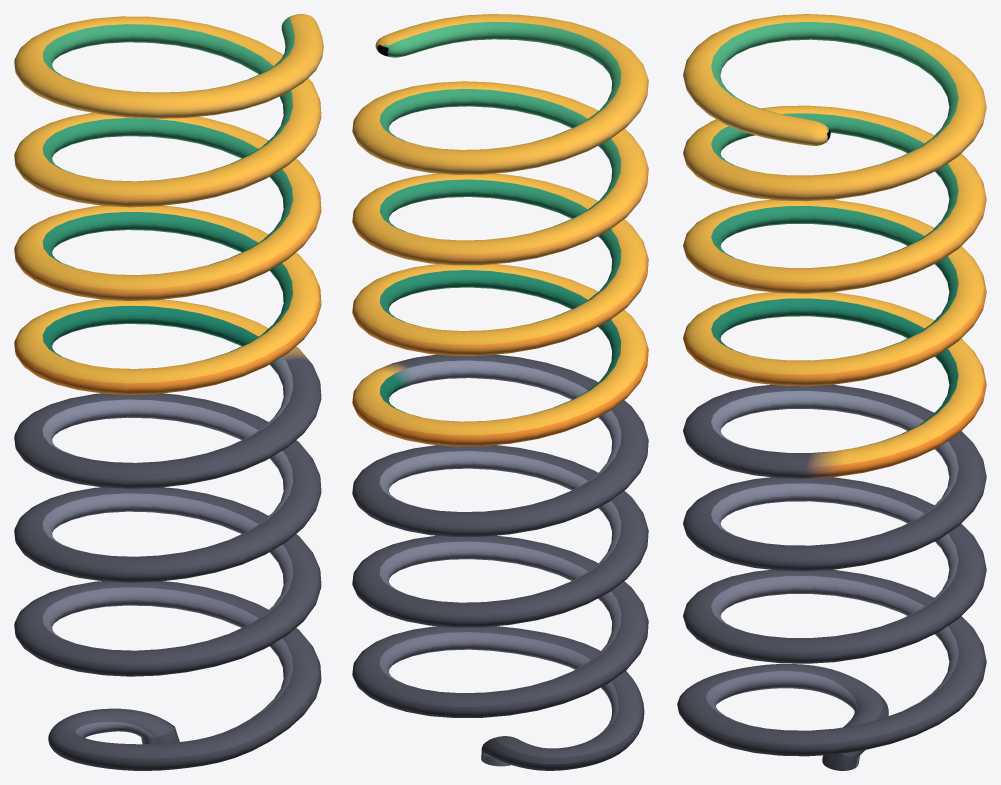
Rendered from rod_holder.glb.
The picture shows the model from 3 angles, left to right: view 1: azimuth 30°, elevation 25°; view 2: azimuth 150°, elevation 25°; view 3: azimuth 270°, elevation 25°; orthographic projection. The views are drawn at different scales.
Size of the model in its own units: 17.44 by 43.65 by 17.51.
1 material, 1 textured.
